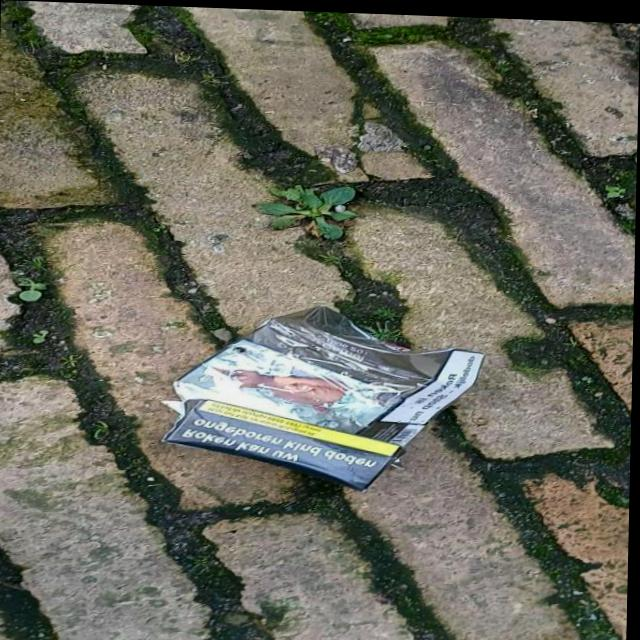Paper: (158, 298, 495, 495)
